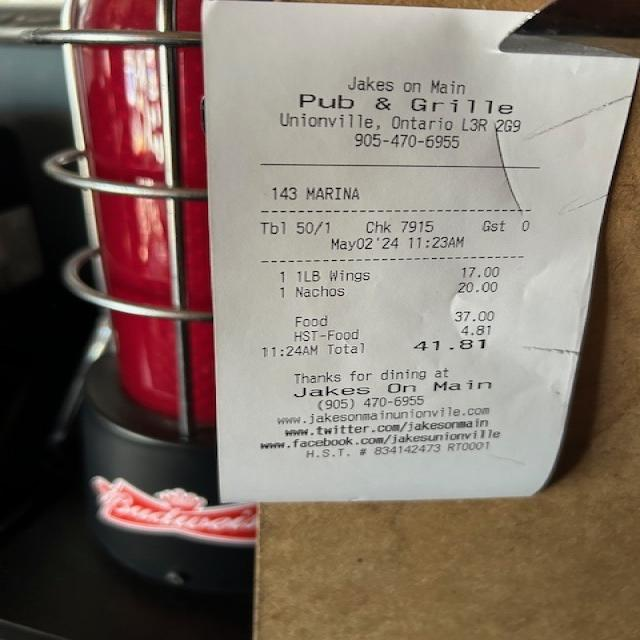item: (292, 261, 511, 286), (291, 279, 512, 301)
store_name: (291, 89, 522, 121)
total_amount: (322, 336, 496, 361)
transaction_date: (324, 233, 410, 255)
